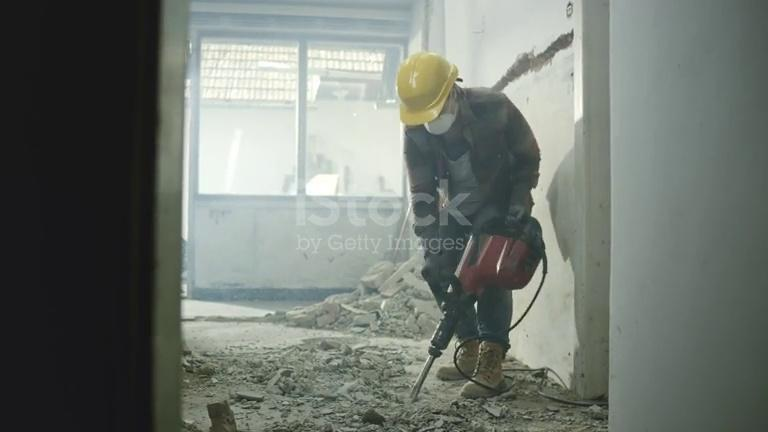helmet: (395, 51, 461, 126)
mask: (422, 103, 458, 135)
person: (393, 49, 546, 399)
